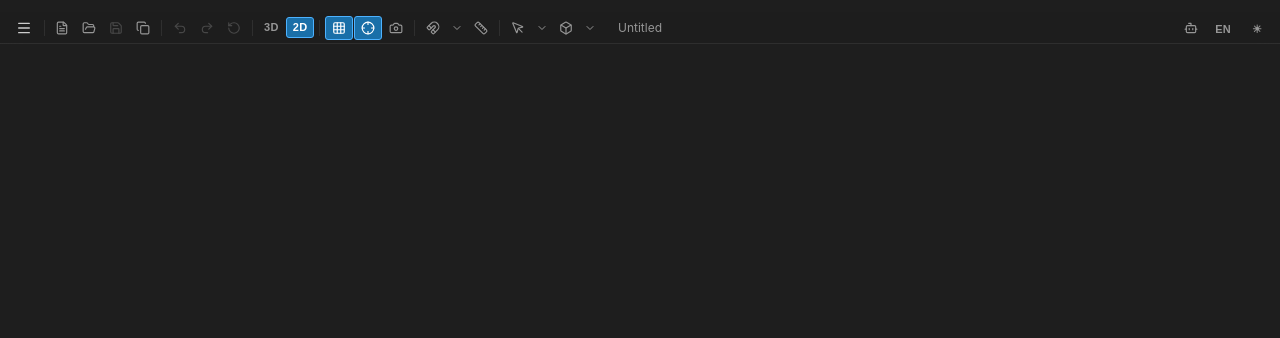
Scenario: MenuBar › opens recent files directly by stored path
Click the button titled "文件". click: (24, 28)
box: [8,16,40,40]
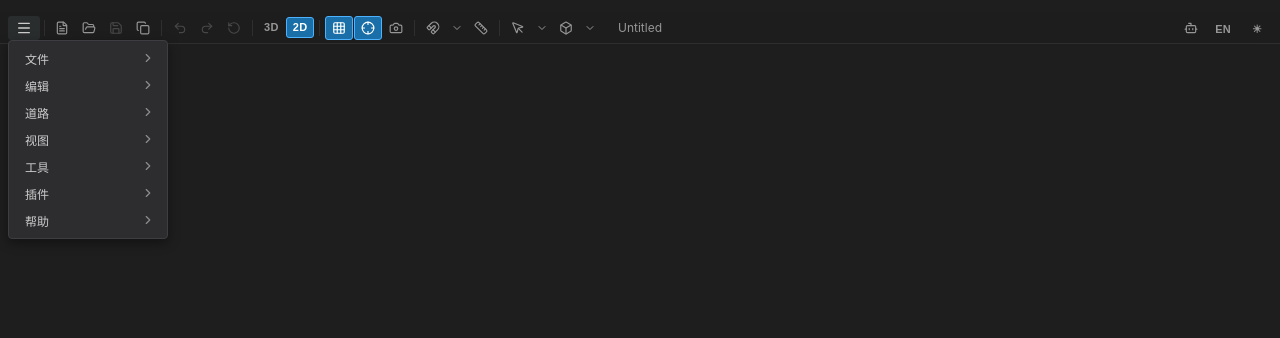
Click the text "文件". click: (37, 58)
box: [25,50,49,66]
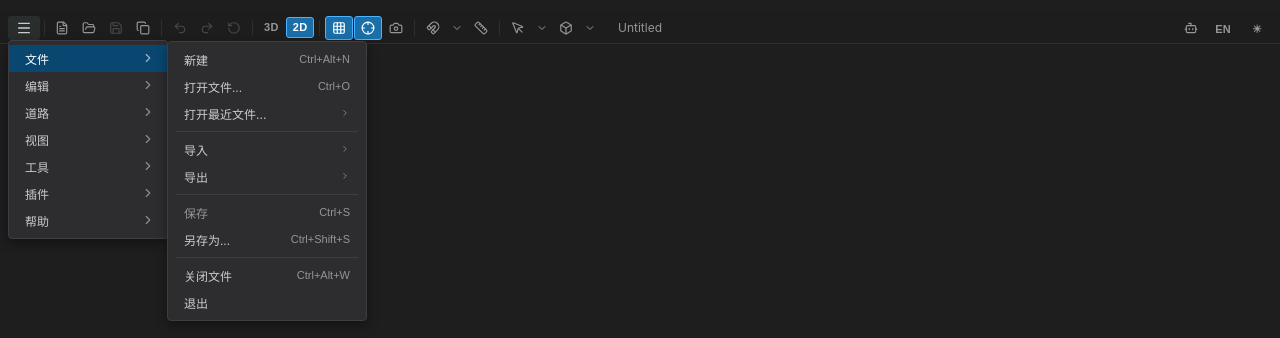
Click the text "打开最近文件...". click: (225, 113)
box: [184,104,266,122]
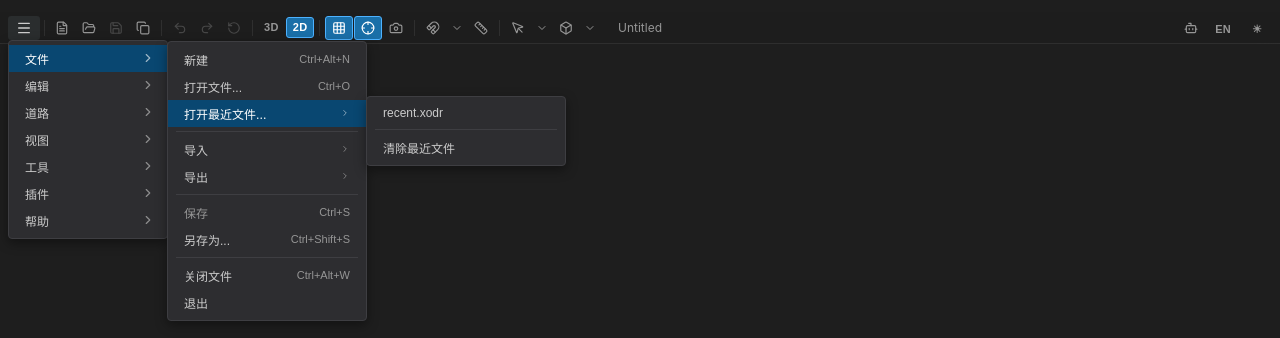
Click the button "recent.xodr". click: (466, 112)
box: [367,100,565,124]
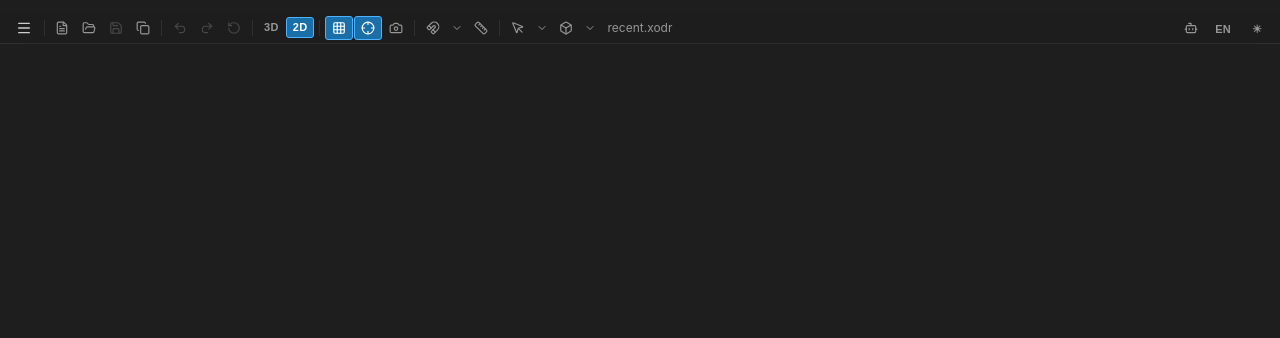
Expected: the text "recent.xodr" is shown, [608,20,672,35]
